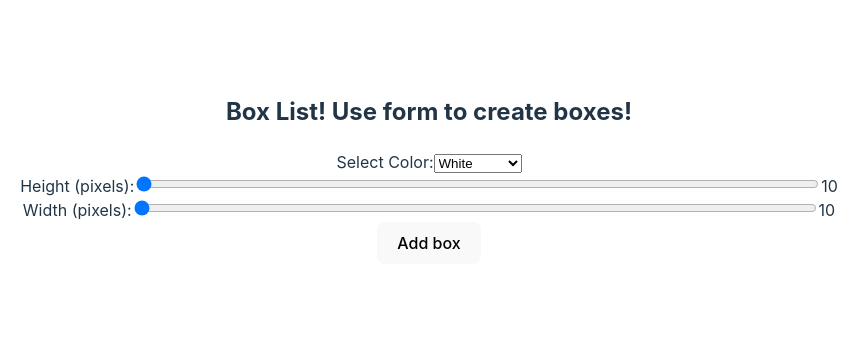
Test: should add a new box to the page after the form is submitted
expect the text "DELETE BOX" is not shown: met
expect the form with class "NewBoxForm" is shown: met, box [20,150,838,264]
Step 1. Select "Magenta" in the dropdown labelled "Select Color:" → x=478, y=164, box [434,154,522,173]
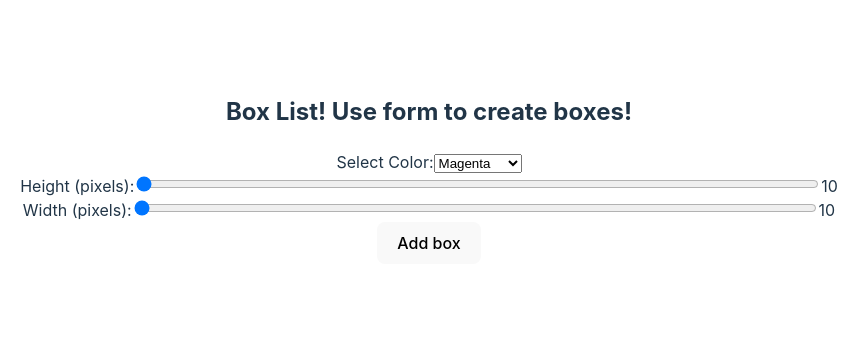
Step 2. Set the slider labelled "Height (pixels):" to "100" → x=267, y=184, box [136,176,819,192]
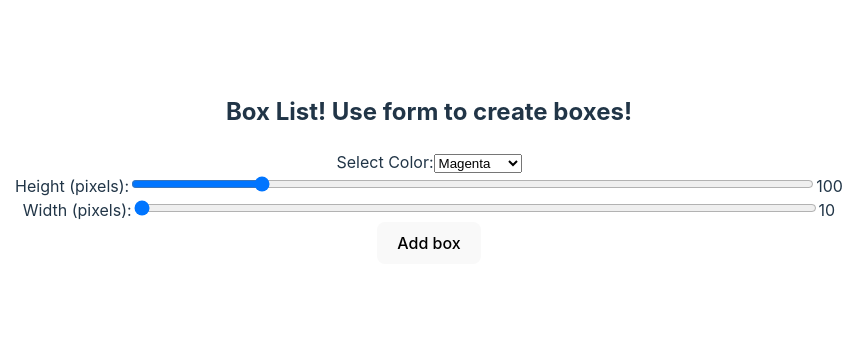
Step 3. Set the slider labelled "Width (pixels):" to "200" → x=400, y=208, box [134,200,817,216]
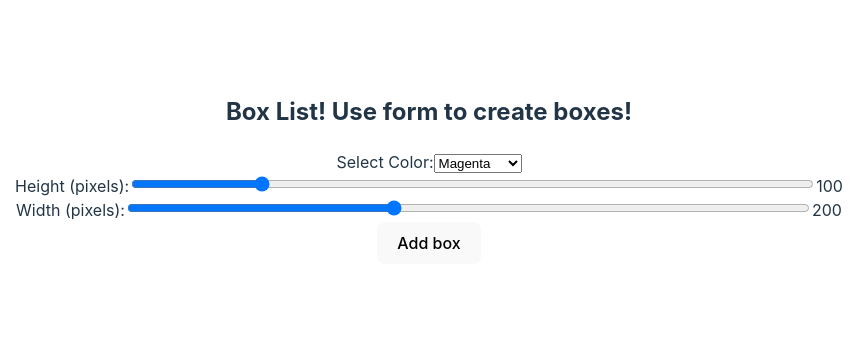
Step 4. Click the button "Add box" → x=429, y=243, box [377,222,481,264]
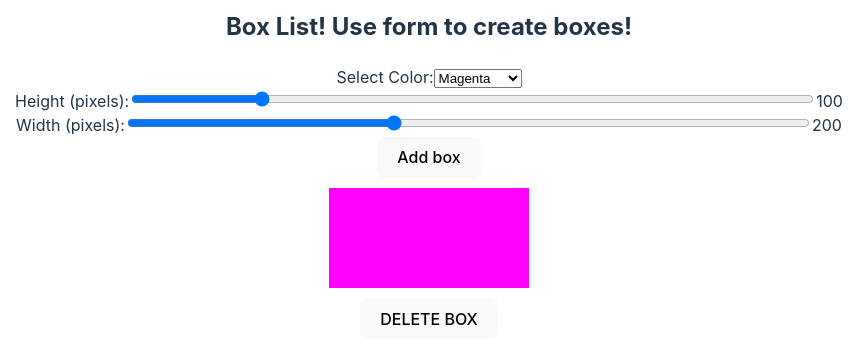
expect the button "DELETE BOX" is shown: met
# The user should be able to delete the box, and afterwards the box should no longer show up on the page.
Step 5. Click the button "DELETE BOX" → x=429, y=318, box [360,298,498,339]
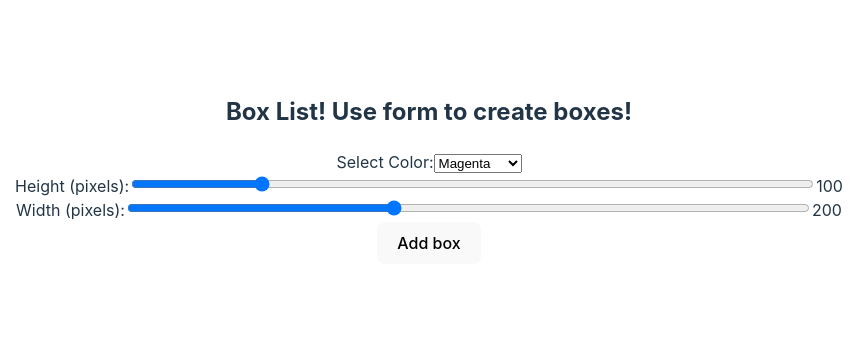
expect the button "DELETE BOX" is gone: met
